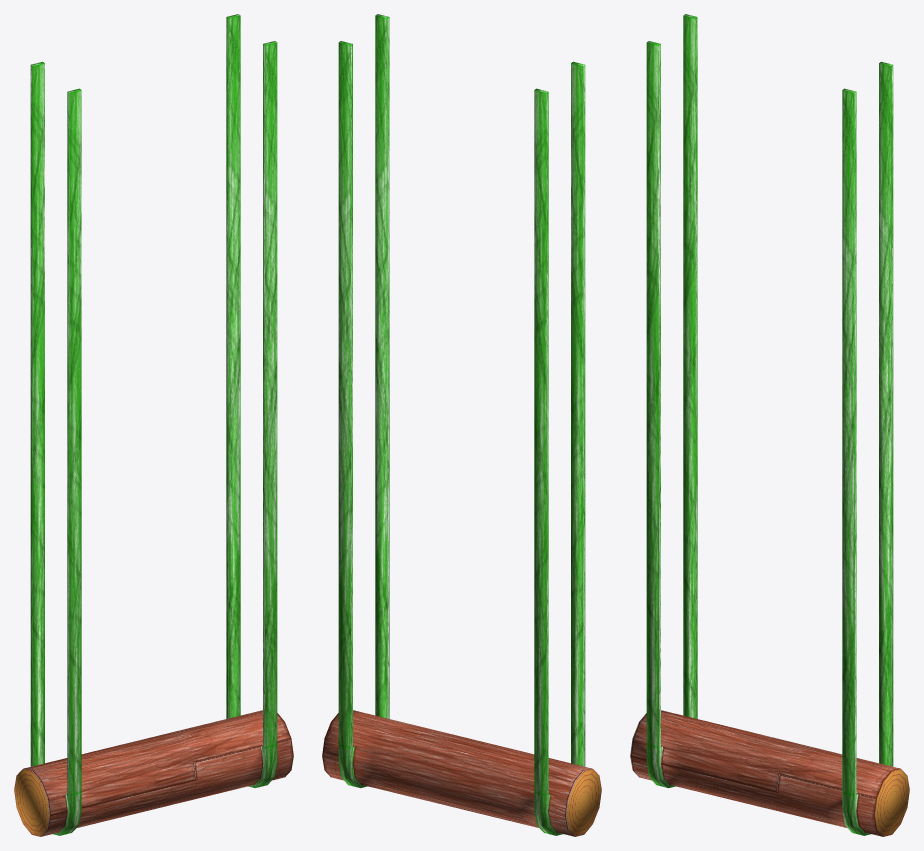
The picture shows the model from 3 angles, left to right: view 1: azimuth 30°, elevation 25°; view 2: azimuth 150°, elevation 25°; view 3: azimuth 330°, elevation 25°; orthographic projection.
Visible parts, largest first — view 1: Cylinder001; view 2: Cylinder001; view 3: Cylinder001.
Part boxes in pixels (x1,y1,x2,y2): Cylinder001: (14,14,293,836); Cylinder001: (322,14,601,836); Cylinder001: (630,14,909,836).
Size of the model in its own units: 157 by 464 by 43.31.
1 material, 1 textured.
